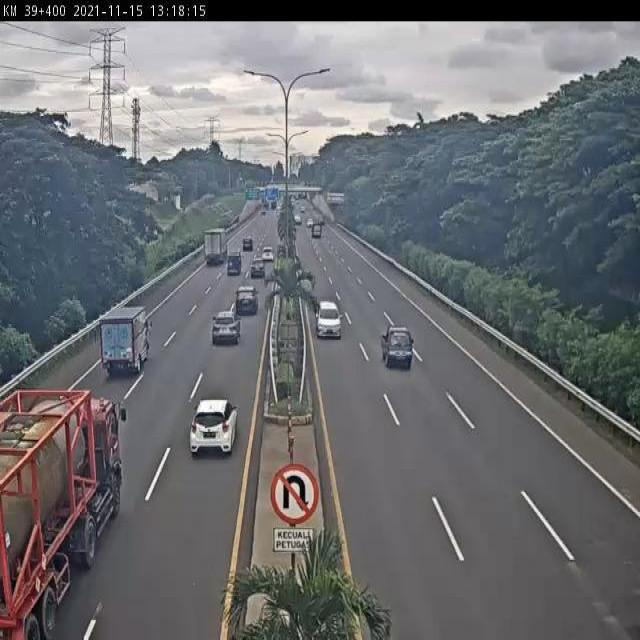car: (212, 308, 242, 349), (235, 283, 258, 316)
truck-s-: (100, 306, 151, 378), (380, 324, 414, 367)
truck-xl-: (0, 386, 127, 640)
